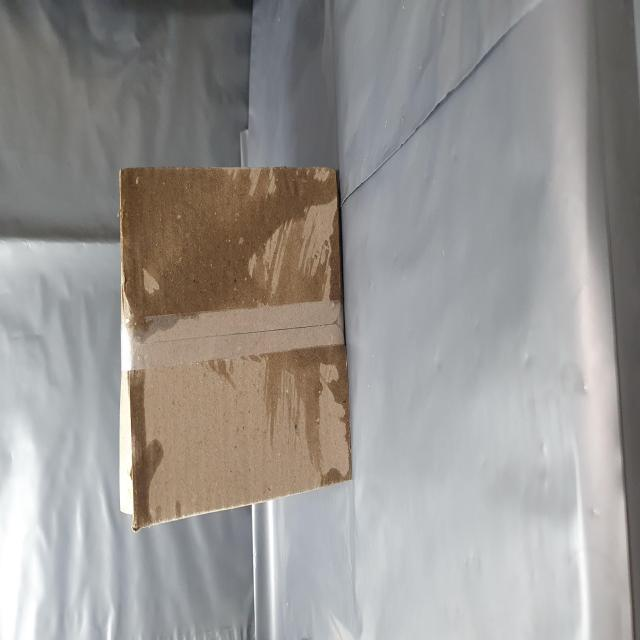wet: (166, 218, 267, 566)
